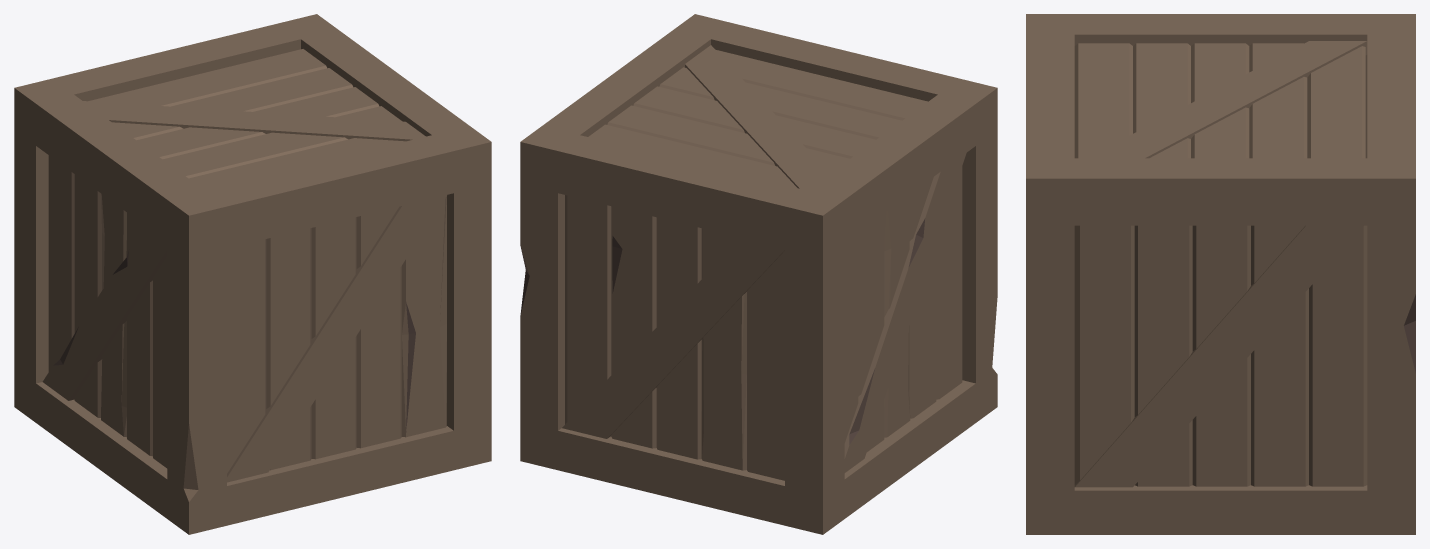
The model's file is model_wooden_box_open.fbx.
3 views of the same model, side by side, from view 1: azimuth 30°, elevation 25°; view 2: azimuth 150°, elevation 25°; view 3: azimuth 270°, elevation 25° (orthographic). The views are drawn at different scales.
Parts seen in each view (by area): view 1: model_wooden_box_open, model_wooden_box_lid; view 2: model_wooden_box_open, model_wooden_box_lid; view 3: model_wooden_box_open, model_wooden_box_lid.
Part boxes in pixels (x1,y1,x2,y2): model_wooden_box_open: (14,122,491,534); model_wooden_box_lid: (14,14,491,250); model_wooden_box_open: (520,122,997,534); model_wooden_box_lid: (520,14,997,250); model_wooden_box_open: (1026,73,1415,534); model_wooden_box_lid: (1026,14,1415,217).
Size of the model in its own units: 100 by 101 by 100.
1 material, 1 textured.
